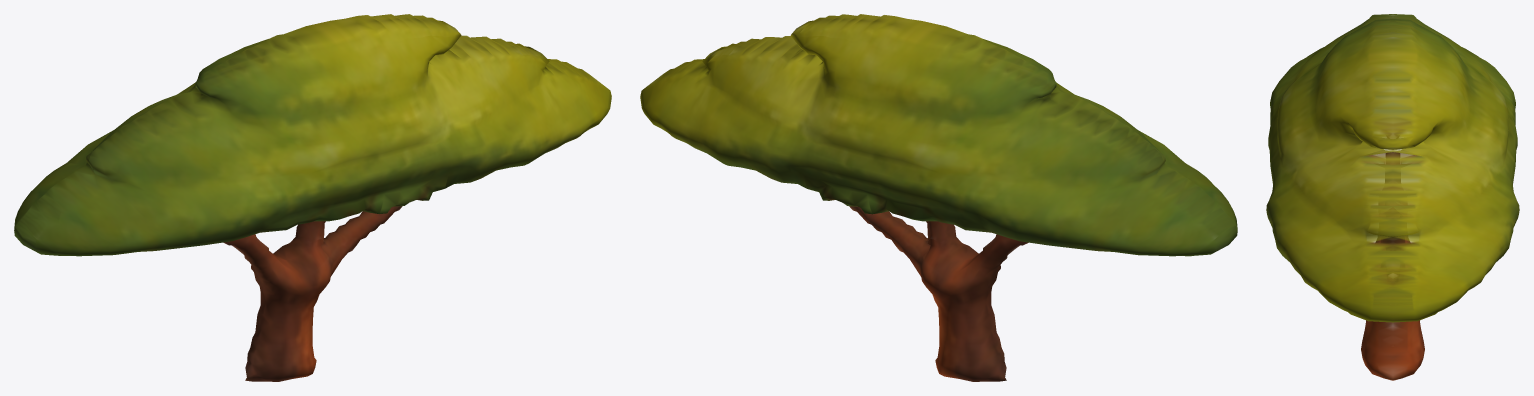
Rendered from 02_acacia_trees_r02_c03.glb.
3 views of the same model, side by side, from view 1: azimuth 30°, elevation 25°; view 2: azimuth 150°, elevation 25°; view 3: azimuth 270°, elevation 25° (orthographic).
Parts seen in each view (by area): view 1: 02_acacia_trees_r02_c03; view 2: 02_acacia_trees_r02_c03; view 3: 02_acacia_trees_r02_c03.
Boxes of the visible parts, x1=… form: 02_acacia_trees_r02_c03: x1=14, y1=14, x2=611, y2=381; 02_acacia_trees_r02_c03: x1=640, y1=14, x2=1237, y2=381; 02_acacia_trees_r02_c03: x1=1266, y1=14, x2=1519, y2=380.
Bounding box in the file's own units: 2.48 × 1.36 × 0.9304.
1 material, 1 textured.
